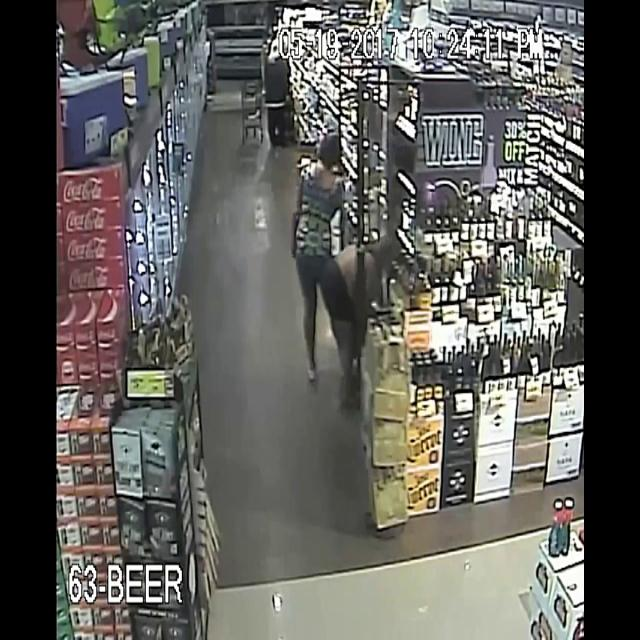normal: (323, 231, 398, 385), (286, 117, 354, 223), (256, 25, 296, 158)
